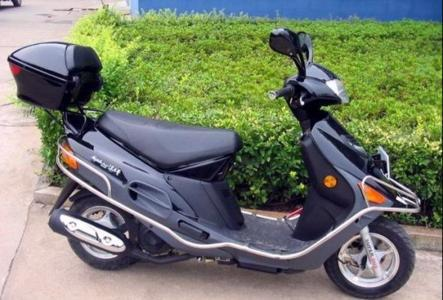电动车: (5, 21, 424, 299)
